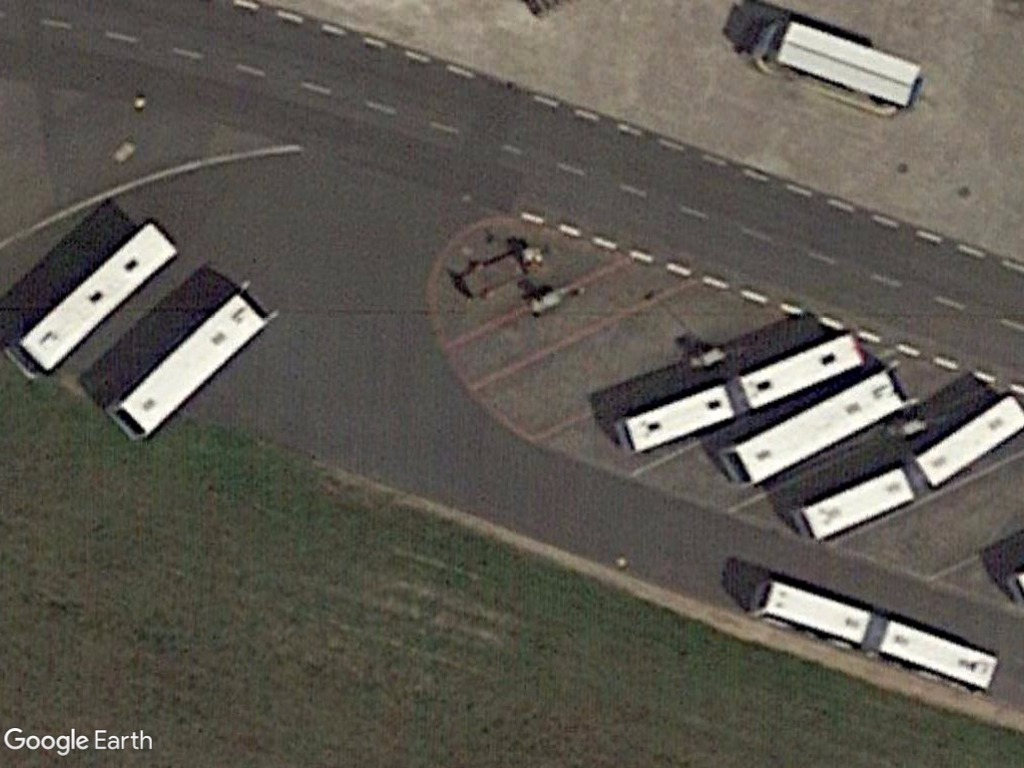bus: (105, 279, 279, 443), (11, 213, 177, 380), (731, 364, 919, 488), (732, 328, 866, 413), (919, 393, 1024, 493), (872, 613, 997, 695), (612, 380, 738, 457), (746, 574, 875, 648), (793, 467, 920, 540)
longvehicle: (752, 13, 927, 109)
